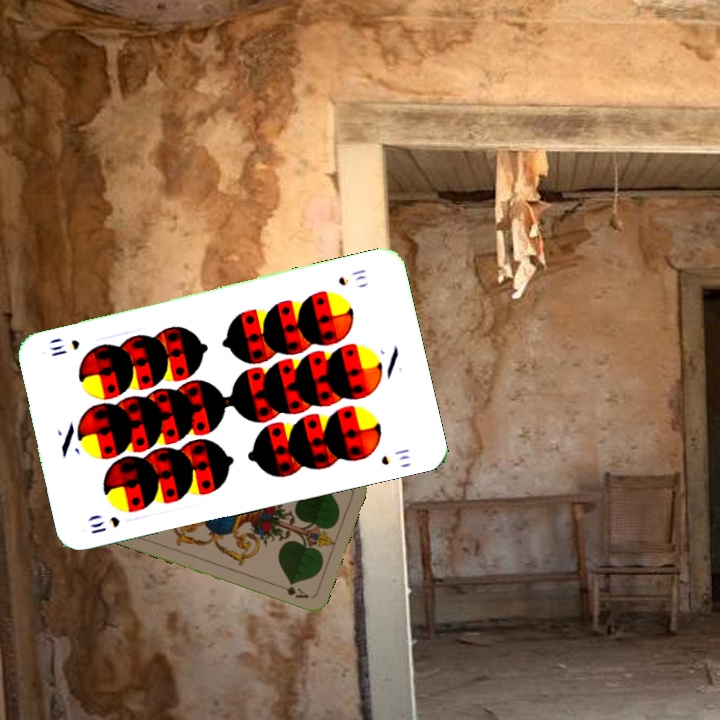S10: (86, 512, 123, 537), (334, 265, 369, 288)
